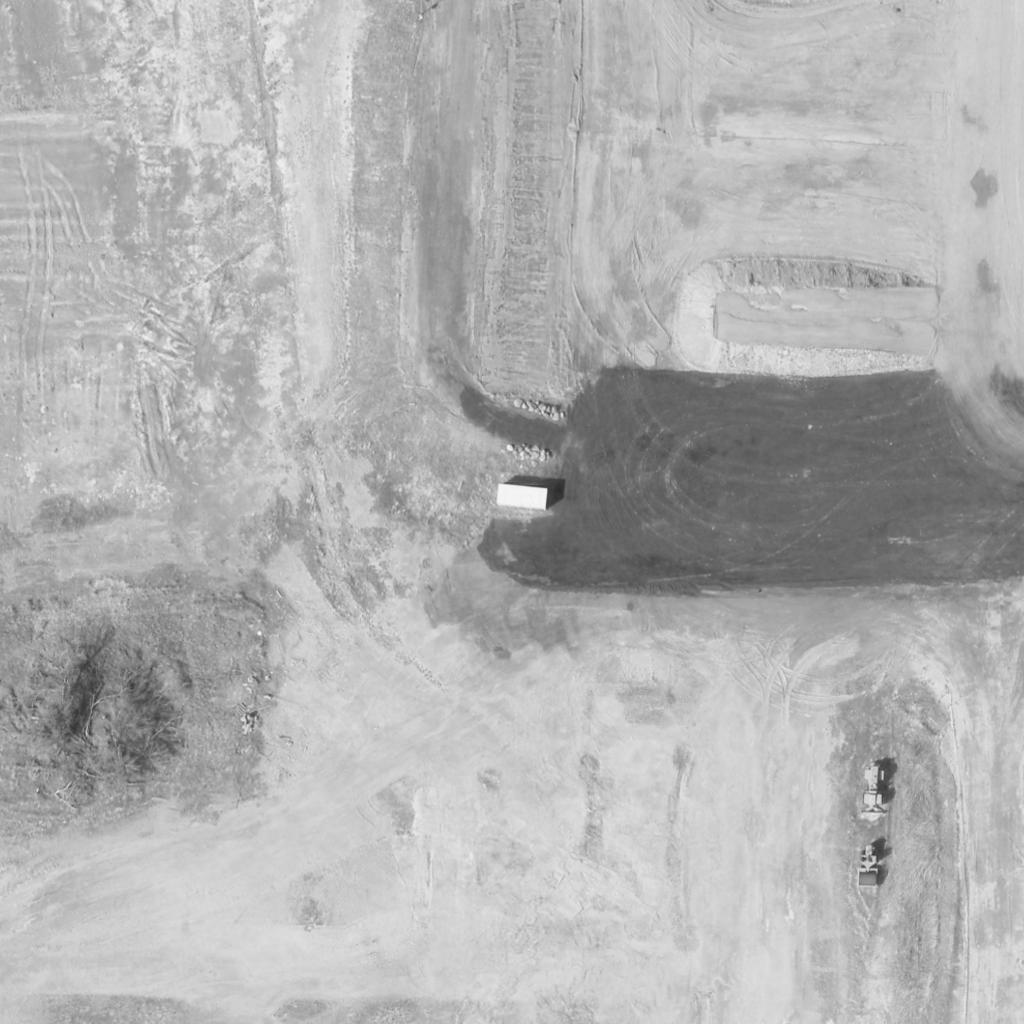vehicle: (860, 762, 890, 816), (856, 845, 880, 887)
